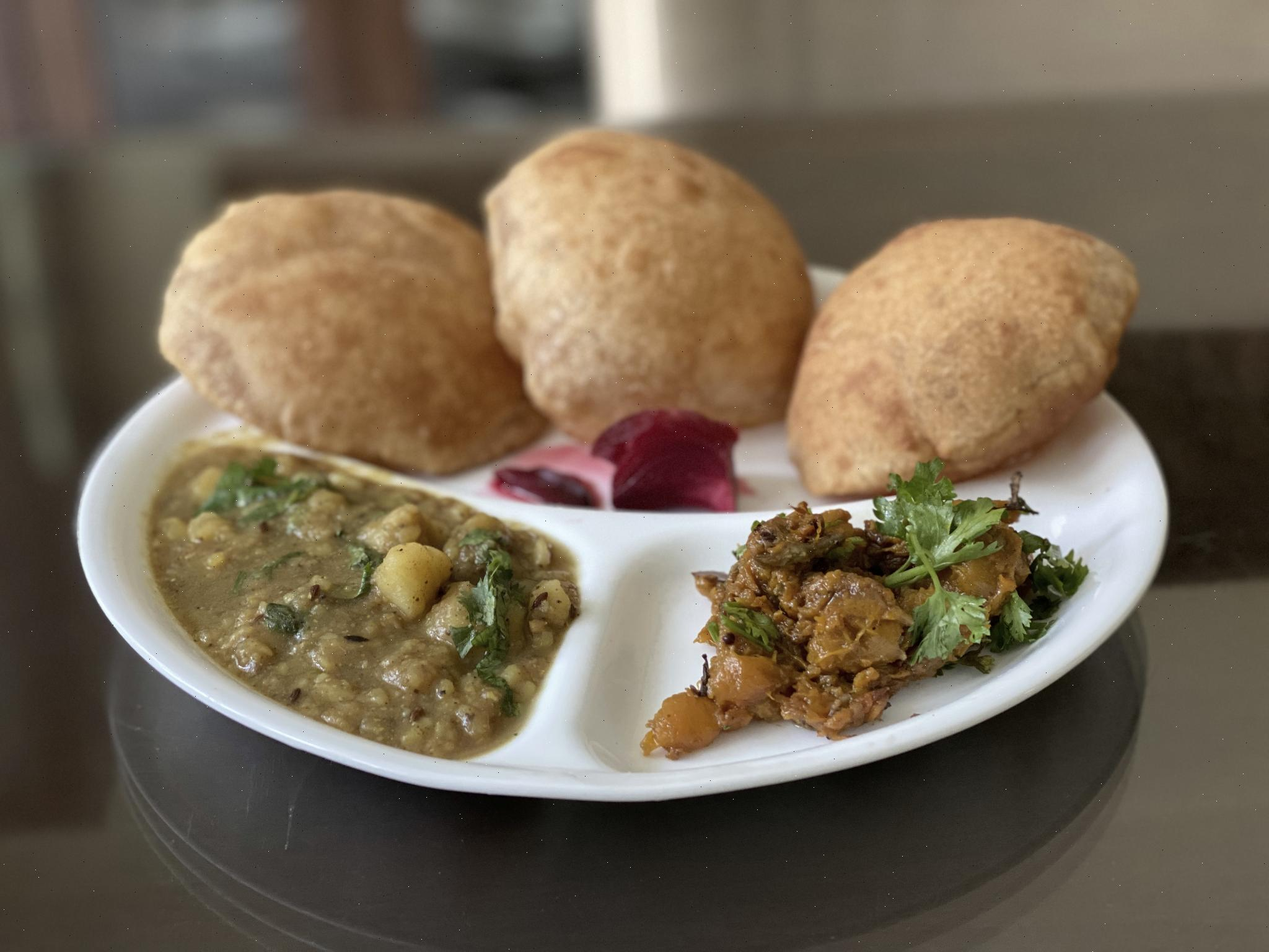puri: (157, 126, 1215, 460)
